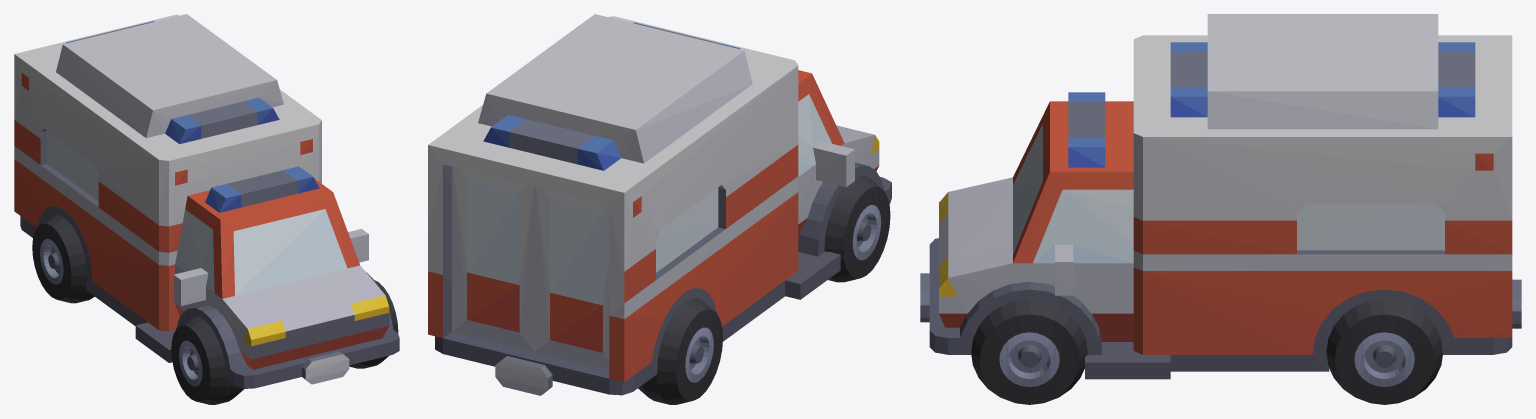
File: ambulance.glb
The picture shows the model from 3 angles, left to right: view 1: azimuth 30°, elevation 25°; view 2: azimuth 150°, elevation 25°; view 3: azimuth 270°, elevation 25°; orthographic projection. The views are drawn at different scales.
Parts seen in each view (by area): view 1: body, wheel_fl_mesh, wheel_rl_mesh, wheel_fr_mesh; view 2: body, door-left, door-right, wheel_rl_mesh, wheel_fl_mesh; view 3: body, wheel_rr_mesh, wheel_fr_mesh.
Boxes of the visible parts, x1=… form: body: x1=14, y1=14, x2=399, y2=388; wheel_fl_mesh: x1=171, y1=316, x2=243, y2=404; wheel_rl_mesh: x1=32, y1=214, x2=94, y2=303; wheel_fr_mesh: x1=349, y1=280, x2=398, y2=368; body: x1=428, y1=14, x2=891, y2=395; door-left: x1=452, y1=166, x2=534, y2=351; door-right: x1=535, y1=187, x2=609, y2=369; wheel_rl_mesh: x1=638, y1=298, x2=722, y2=404; wheel_fl_mesh: x1=824, y1=175, x2=890, y2=282; body: x1=920, y1=14, x2=1521, y2=379; wheel_rr_mesh: x1=1326, y1=299, x2=1442, y2=404; wheel_fr_mesh: x1=971, y1=299, x2=1087, y2=404.
Bounding box in the file's own units: 1.77 × 2.12 × 3.84.
